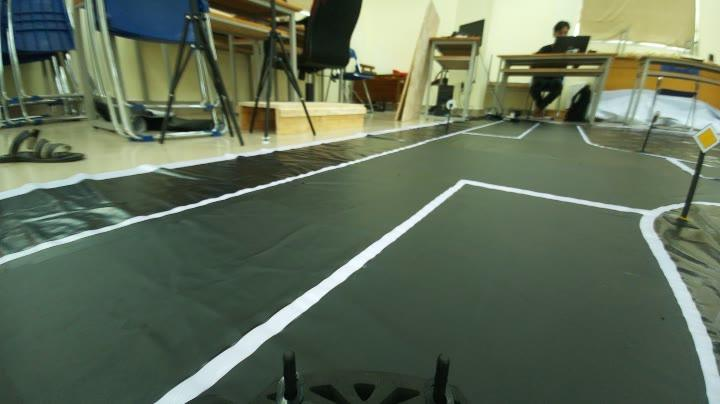priority: (689, 122, 720, 158)
